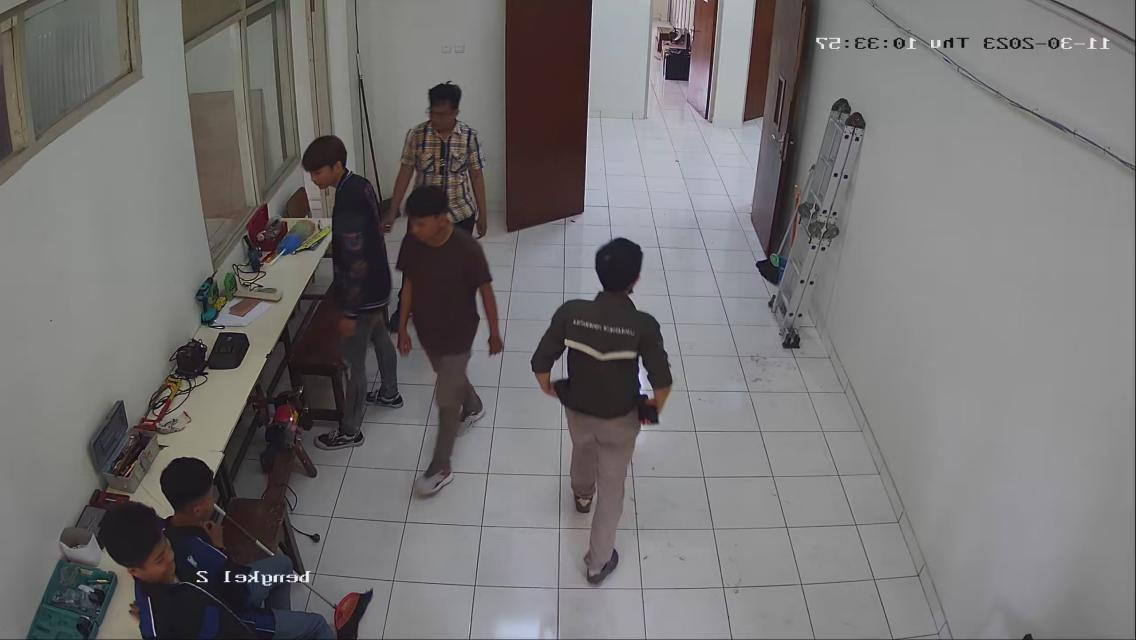Person-Crowd: (545, 228, 671, 594), (392, 190, 519, 500), (291, 119, 401, 437), (397, 72, 476, 294)
